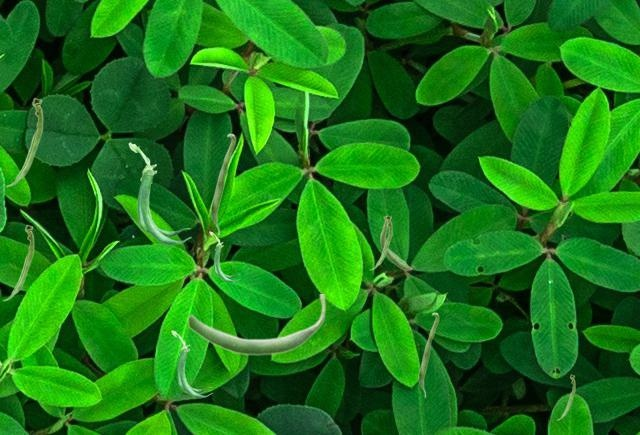french_bean: (187, 294, 325, 355), (128, 142, 190, 244), (5, 97, 42, 186), (171, 330, 211, 397), (210, 133, 235, 235), (2, 224, 33, 300), (418, 312, 438, 397), (380, 215, 411, 269), (209, 231, 239, 281), (369, 215, 391, 269), (556, 374, 574, 419)
